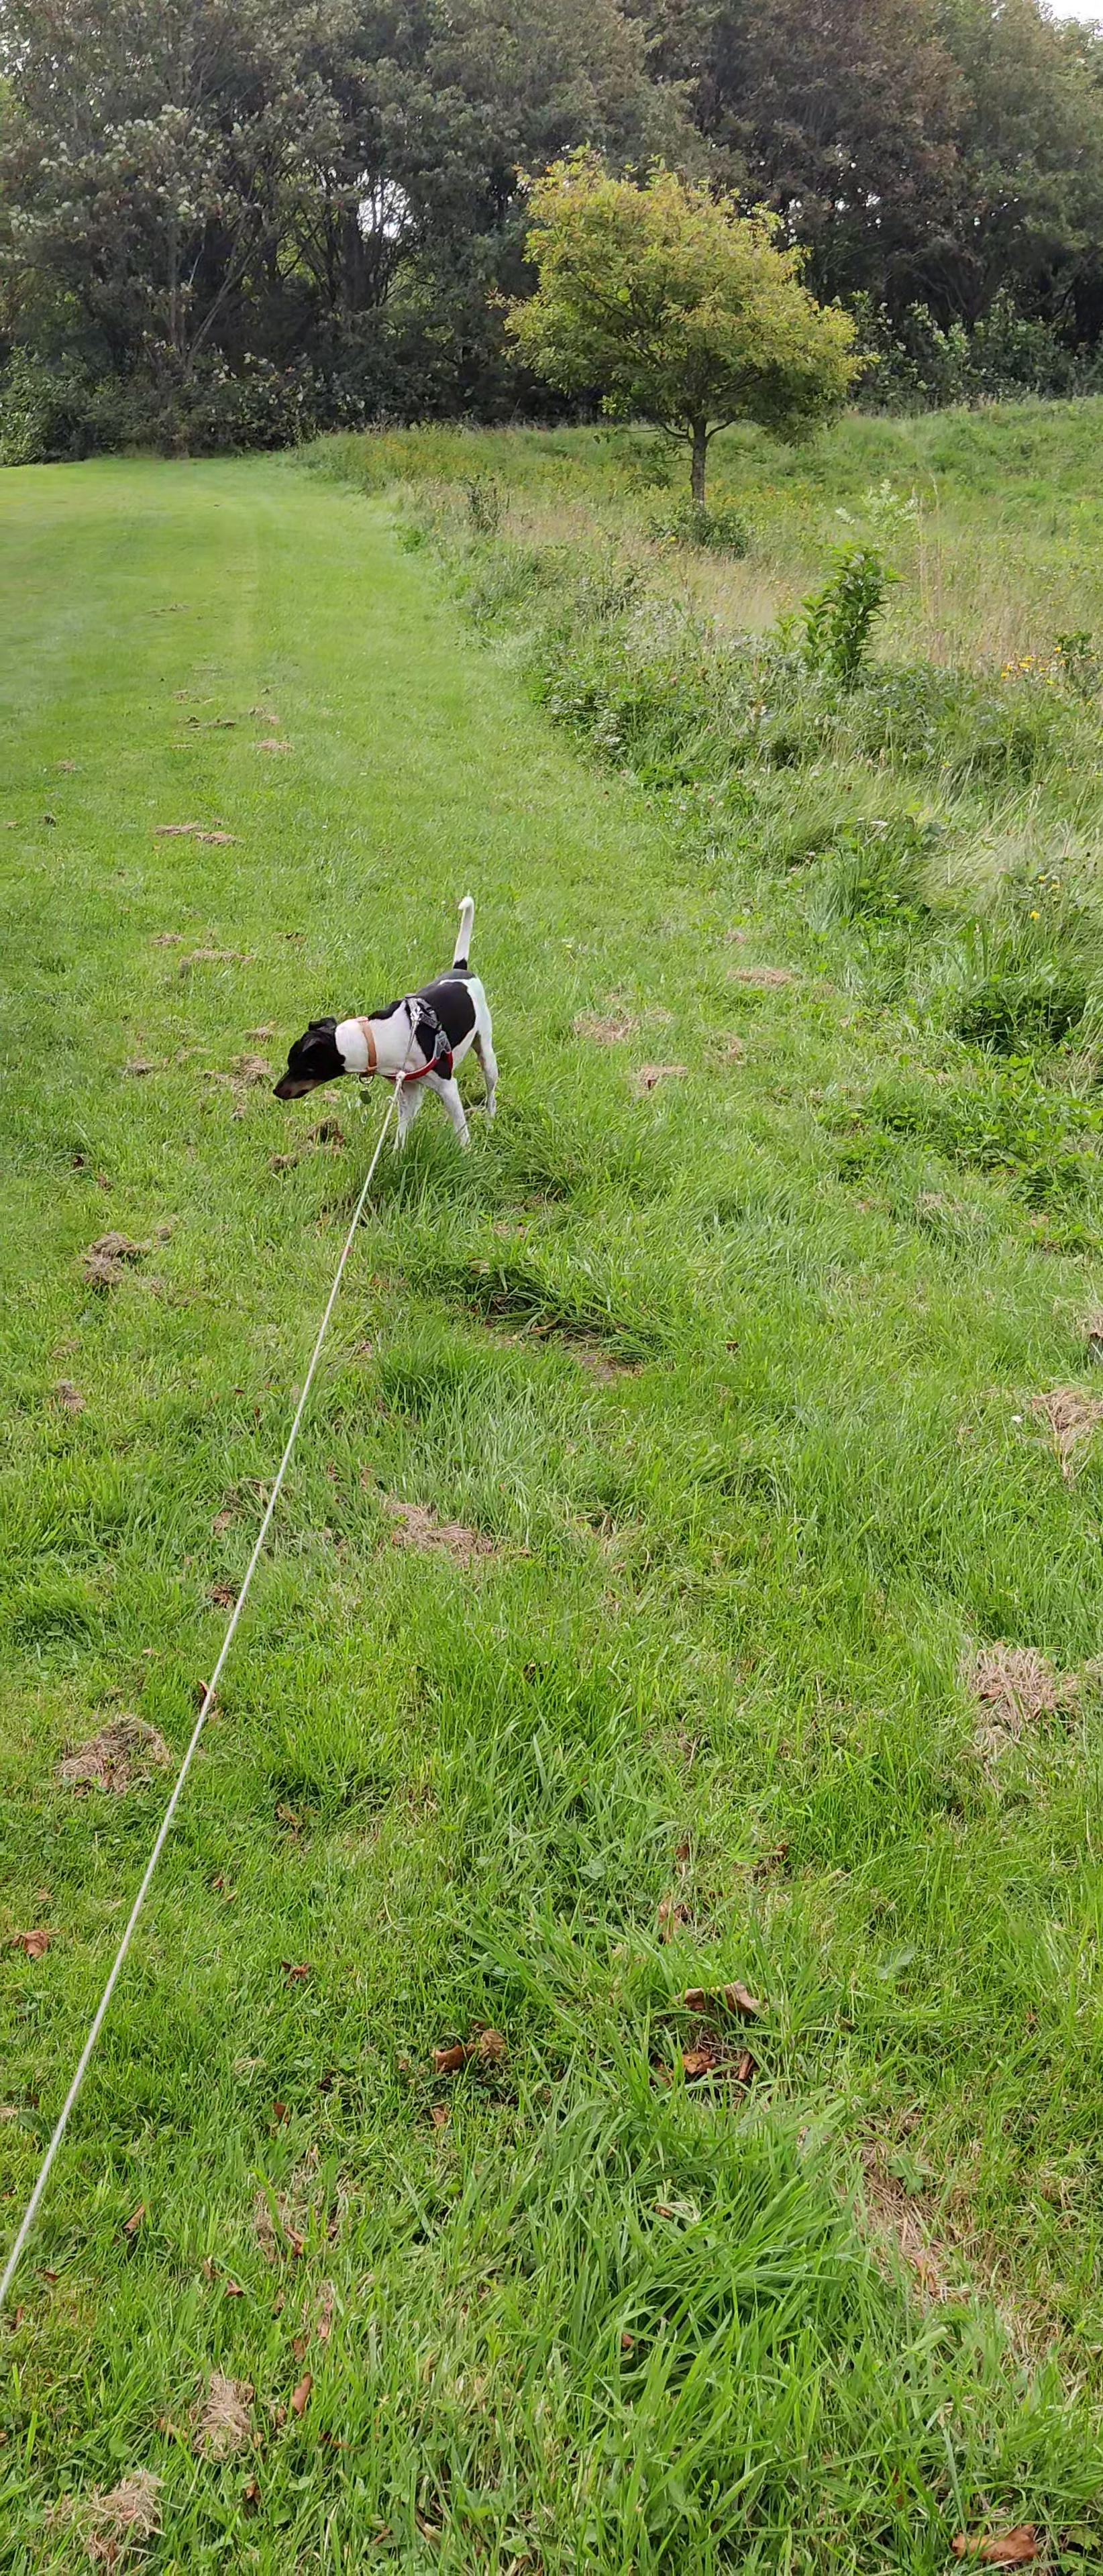Dog: (266, 882, 511, 1168)
